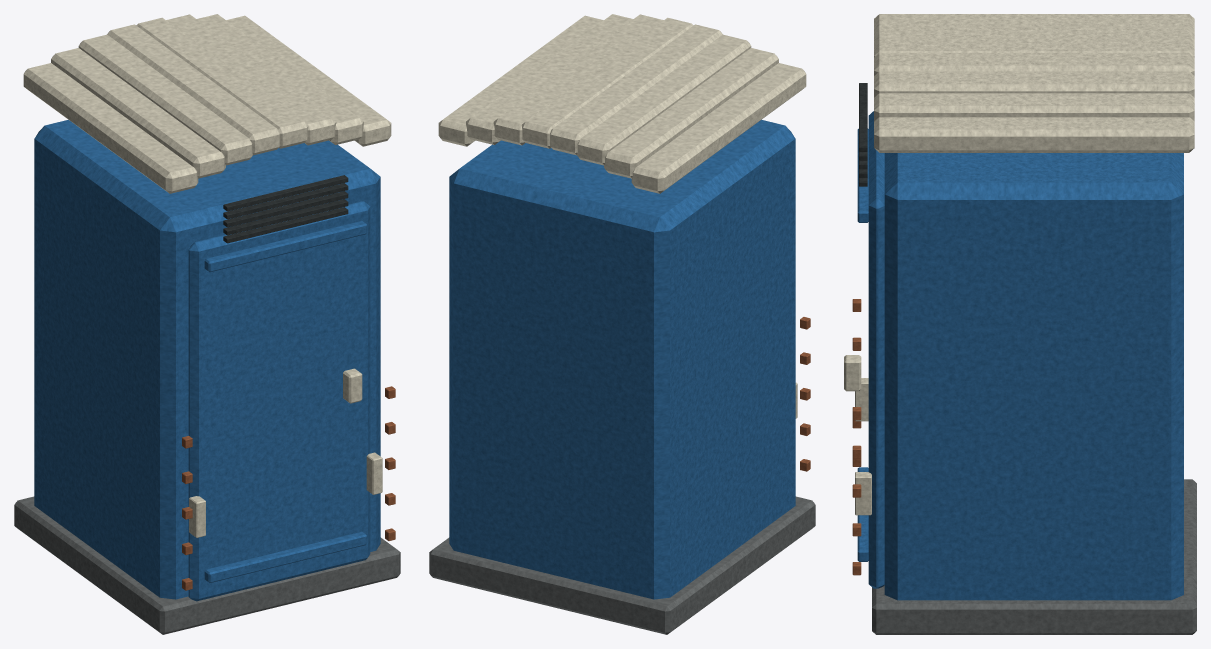
Rendered from PORTLET2_lod0.glb.
3 renders of one model, left to right at view 1: azimuth 30°, elevation 25°; view 2: azimuth 150°, elevation 25°; view 3: azimuth 270°, elevation 25°, orthographic. The views are drawn at different scales.
Parts seen in each view (by area): view 1: PORTLET2_LOD0; view 2: PORTLET2_LOD0; view 3: PORTLET2_LOD0.
Boxes of the visible parts, x1,y1,x2,y2 form: PORTLET2_LOD0: (14, 14, 400, 634); PORTLET2_LOD0: (429, 14, 815, 634); PORTLET2_LOD0: (844, 14, 1196, 634).
Size of the model in its own units: 1.42 by 2.69 by 1.65.
5 materials, 5 textured.
